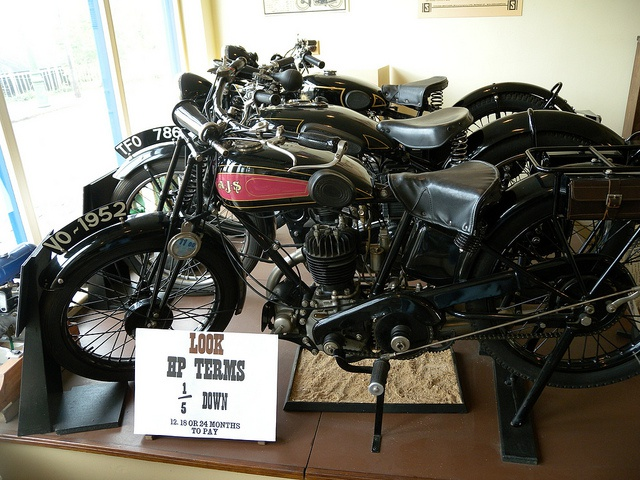non-vehicle: (28, 45, 640, 457), (73, 78, 620, 213), (180, 33, 574, 127)
